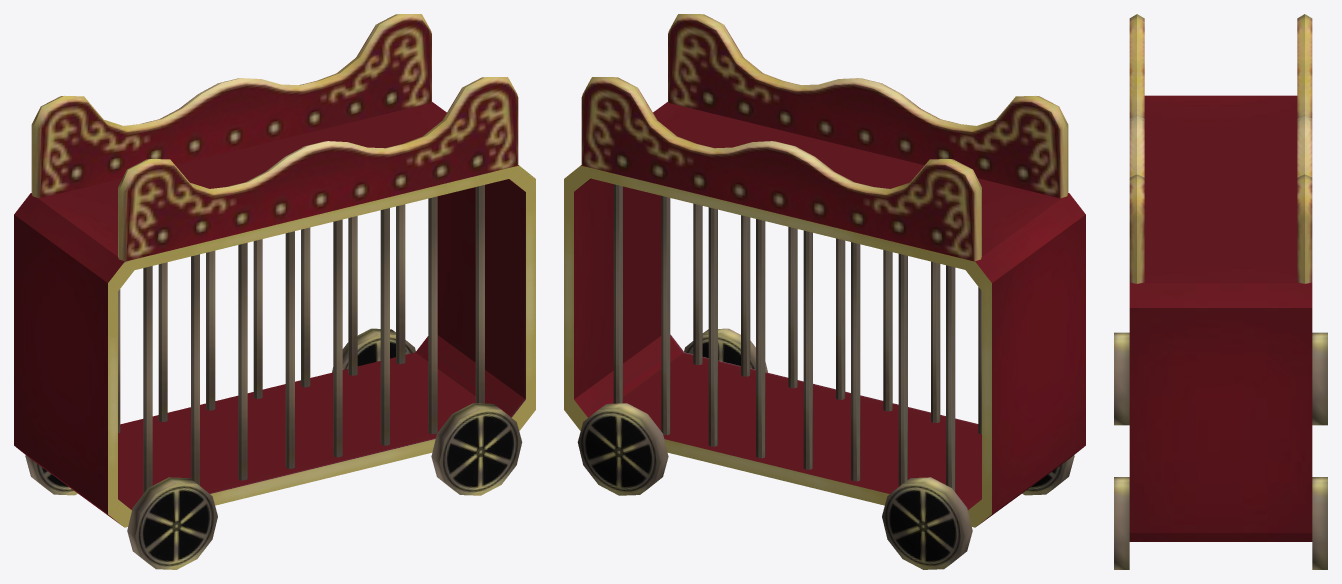
The model's file is LionCage.obj.
3 renders of one model, left to right at view 1: azimuth 30°, elevation 25°; view 2: azimuth 150°, elevation 25°; view 3: azimuth 270°, elevation 25°, orthographic. The views are drawn at different scales.
Visible parts, largest first — view 1: Object_4; view 2: Object_4; view 3: Object_4.
Boxes of the visible parts, left/top/right/bottom form: Object_4: left=14, top=14, right=535, bottom=569; Object_4: left=564, top=14, right=1085, bottom=569; Object_4: left=1114, top=14, right=1327, bottom=569.
Bounding box in the file's own units: 7 × 6.34 × 3.11.
Materials: 1 (1 with a texture image).
